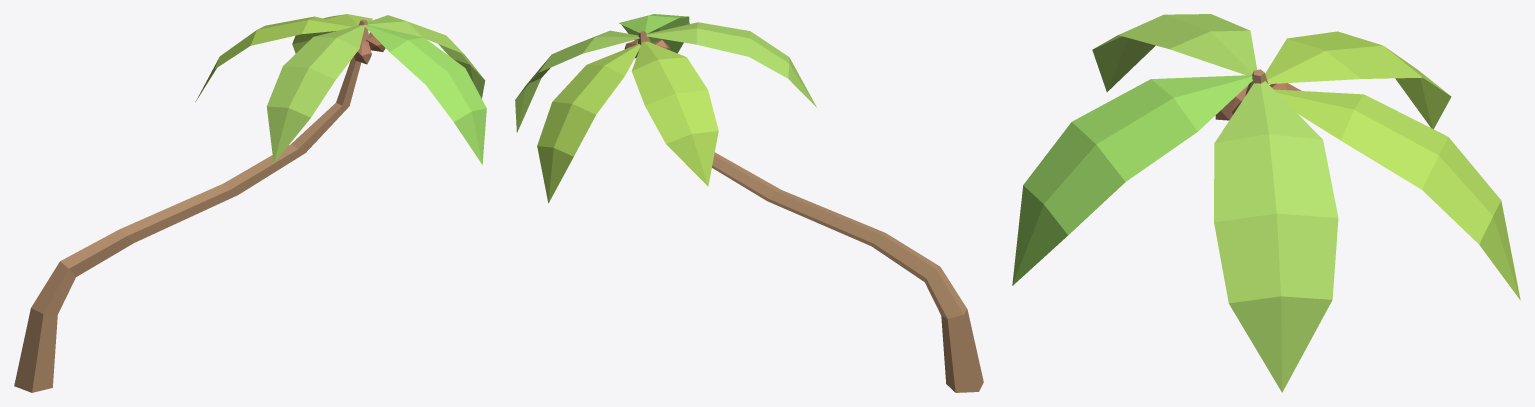
File: Palm_Tree_Coconut_s_05_LOD.fbx
3 renders of one model, left to right at view 1: azimuth 30°, elevation 25°; view 2: azimuth 150°, elevation 25°; view 3: azimuth 270°, elevation 25°, orthographic. The views are drawn at different scales.
Visible parts, largest first — view 1: Palm_Tree_Coconut_s_05_LOD0; view 2: Palm_Tree_Coconut_s_05_LOD0; view 3: Palm_Tree_Coconut_s_05_LOD0.
Part boxes in pixels (x1=…): Palm_Tree_Coconut_s_05_LOD0: x1=14, y1=14, x2=486, y2=392; Palm_Tree_Coconut_s_05_LOD0: x1=515, y1=14, x2=983, y2=392; Palm_Tree_Coconut_s_05_LOD0: x1=1012, y1=14, x2=1520, y2=392.
Size of what is drawn, in the model's own units: 443 by 258 by 244.
